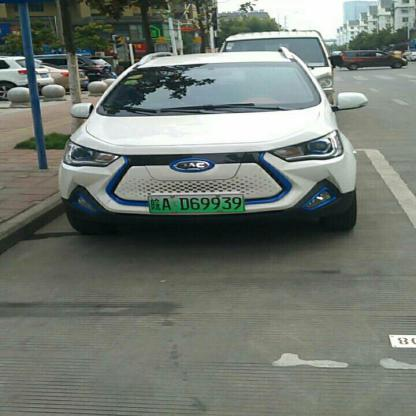lp: (148, 193, 244, 211)
